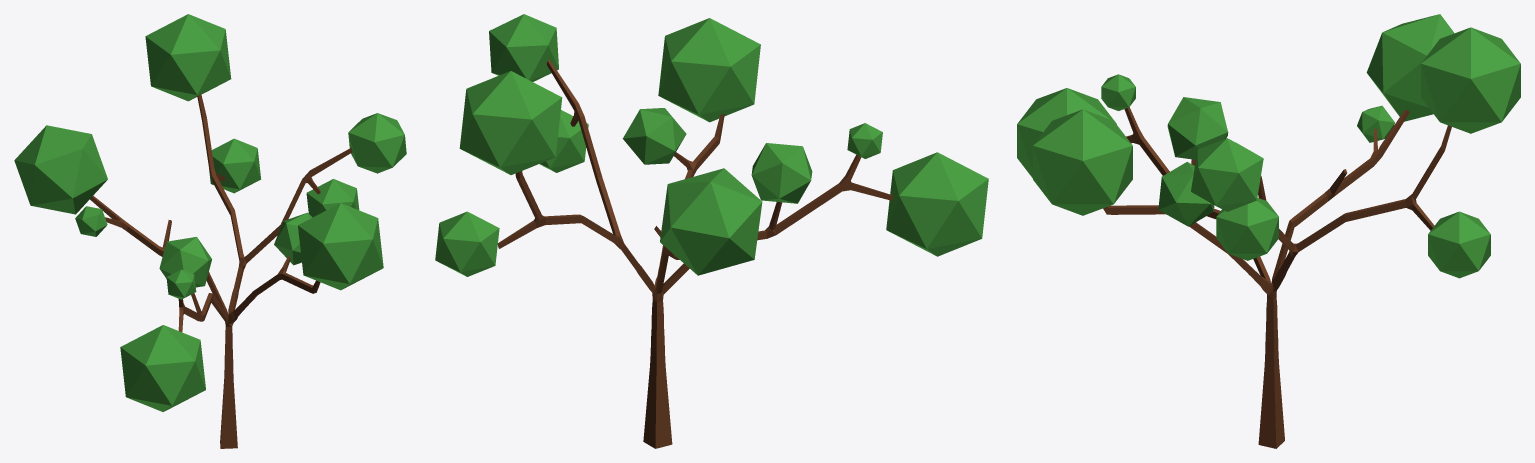
Rendered from Bush_Single.fbx.
3 renders of one model, left to right at view 1: azimuth 30°, elevation 25°; view 2: azimuth 150°, elevation 25°; view 3: azimuth 270°, elevation 25°, orthographic. The views are drawn at different scales.
Parts seen in each view (by area): view 1: Bush_Single; view 2: Bush_Single; view 3: Bush_Single.
Part boxes in pixels (x1,y1,x2,y2): Bush_Single: [14, 14, 406, 448]; Bush_Single: [435, 14, 988, 448]; Bush_Single: [1017, 14, 1520, 448].
Size of the model in its own units: 198 by 191 by 189.
